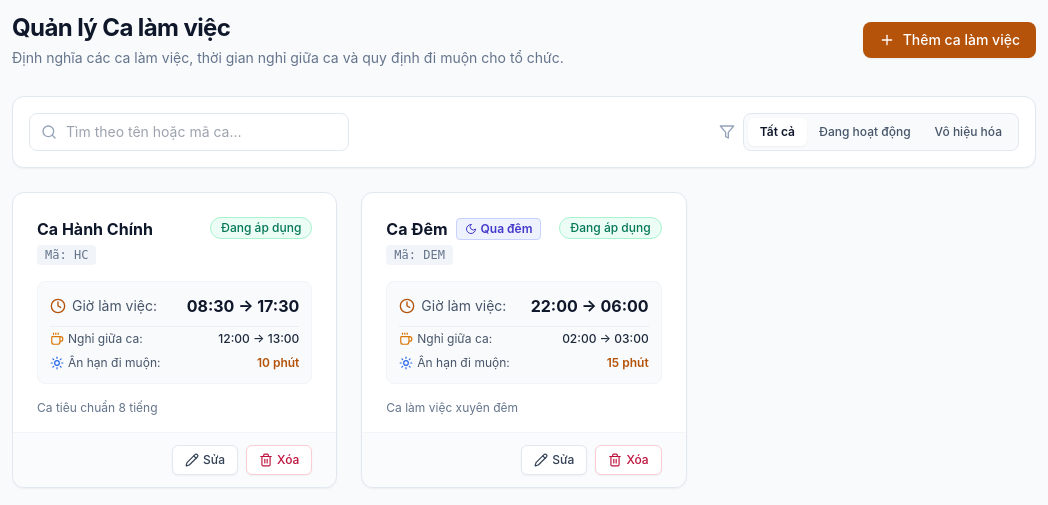
Test case: ShiftsPage Component & User Flows › 3. filters shifts by search term
Expected: the heading "Ca Hành Chính" is shown, [37,217,153,241]
Type "Đêm" into the field with placeholder "Tìm theo tên hoặc mã ca...". click: {"x": 189, "y": 132}
box: [29,113,349,151]
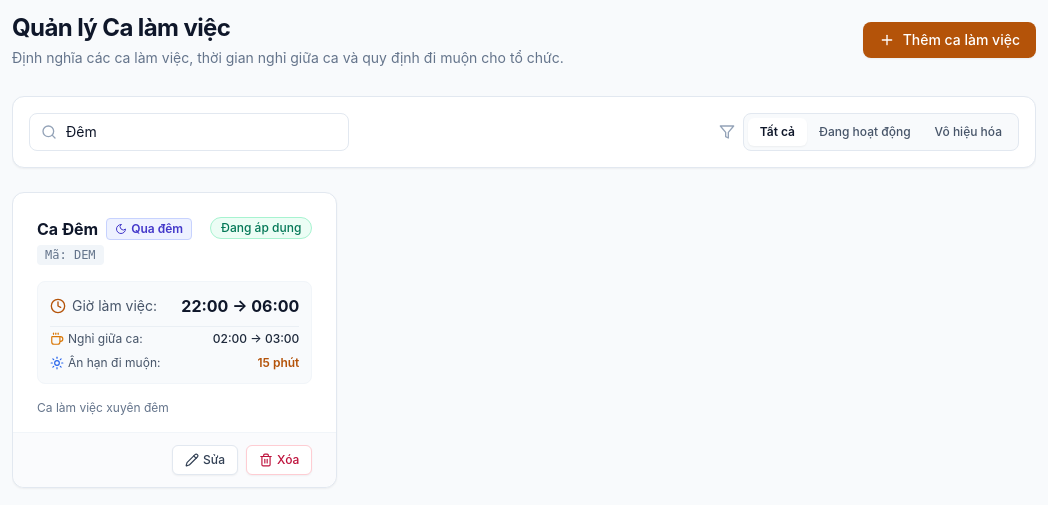
Expected: the heading "Ca Đêm" is shown, [37,217,98,241]
Now the heading "Ca Hành Chính" is gone
